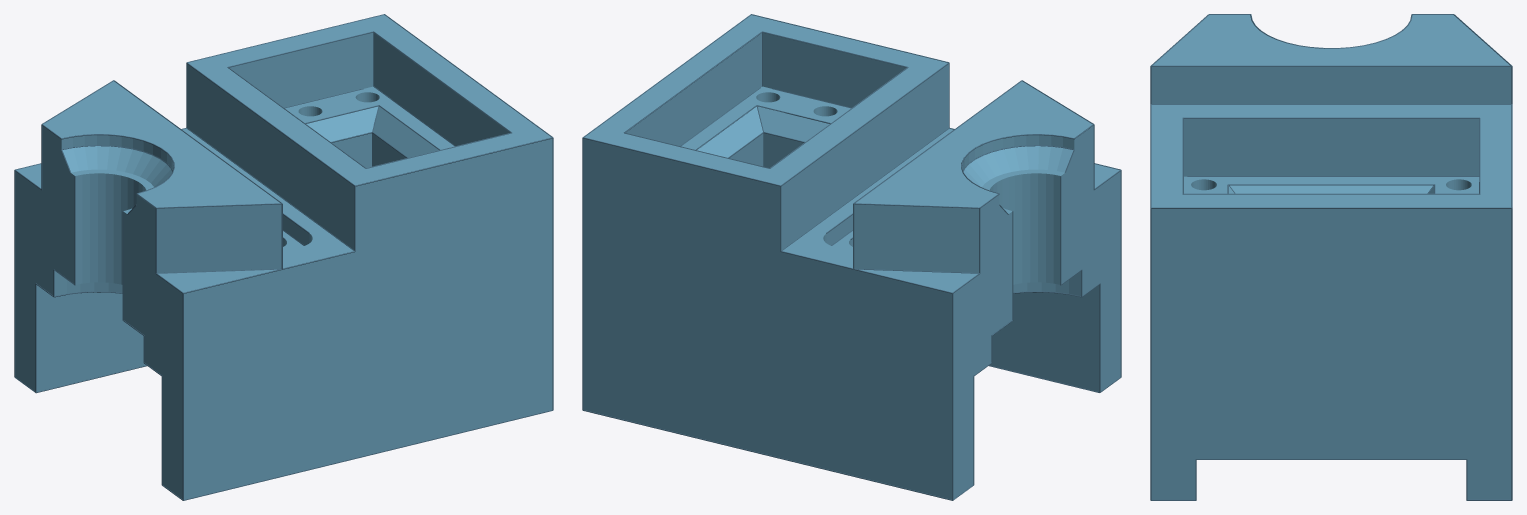
Rendered from section_bb_cad.glb.
3 views of the same model, side by side, from view 1: azimuth 30°, elevation 25°; view 2: azimuth 150°, elevation 25°; view 3: azimuth 270°, elevation 25° (orthographic). The views are drawn at different scales.
Visible parts, largest first — view 1: section_bb_blue, navy_edges; view 2: section_bb_blue, navy_edges; view 3: section_bb_blue, navy_edges.
Boxes of the visible parts, x1,y1,x2,y2 form: section_bb_blue: [15, 15, 552, 499]; navy_edges: [14, 14, 553, 500]; section_bb_blue: [583, 15, 1120, 499]; navy_edges: [582, 14, 1121, 500]; section_bb_blue: [1151, 15, 1511, 499]; navy_edges: [1150, 14, 1512, 500].
Bounding box in the file's own units: 71.22 × 50.21 × 56.22.
